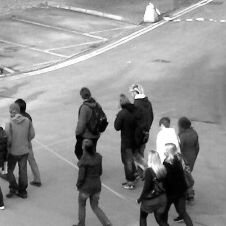person: (75, 139, 111, 226), (112, 92, 142, 189), (6, 103, 31, 201), (15, 97, 42, 187), (137, 148, 168, 226), (164, 143, 193, 226), (128, 83, 153, 172), (73, 87, 100, 159), (175, 116, 201, 172), (153, 117, 180, 161), (1, 124, 6, 210)
